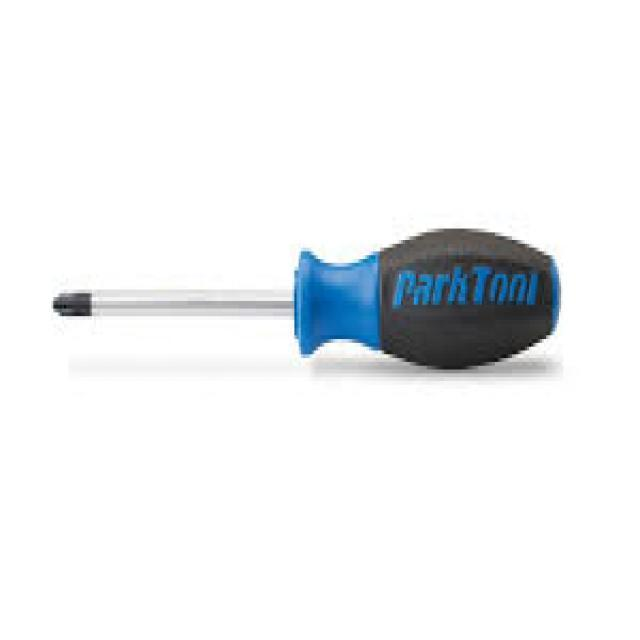screwdriver: (48, 226, 562, 380)
